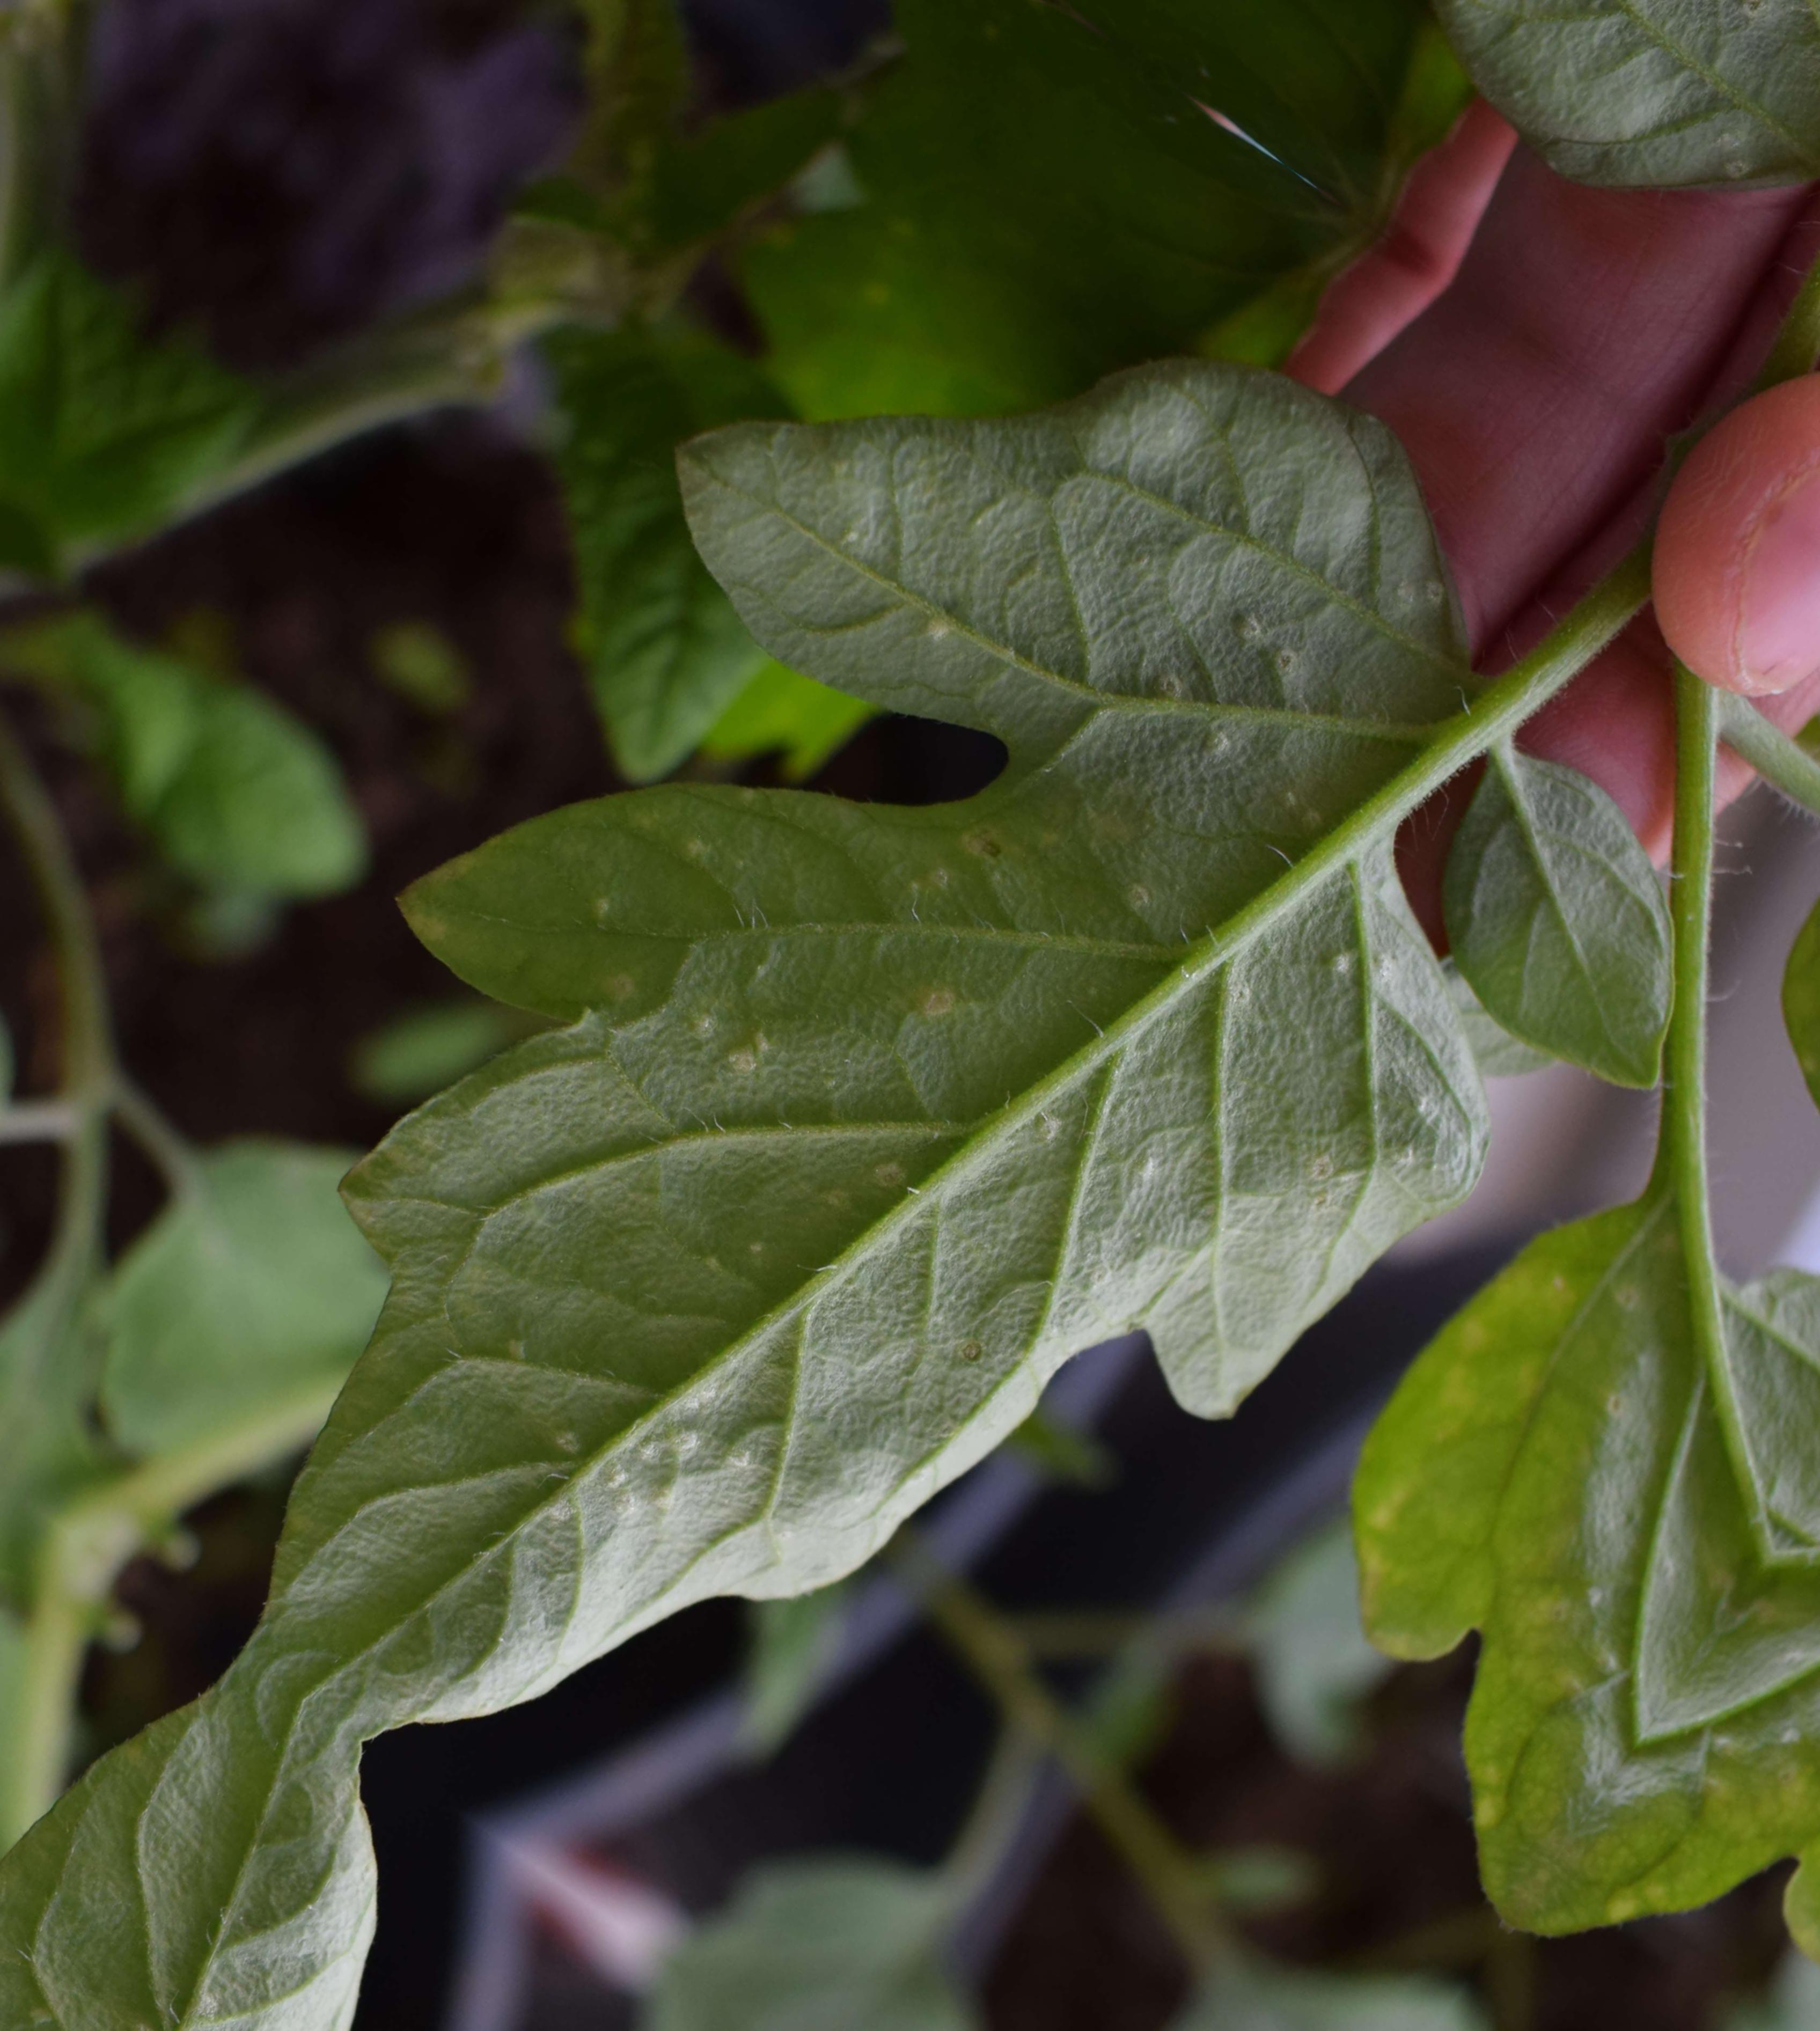Tomato mold leaf: (0, 142, 1762, 2031), (1114, 1086, 1820, 1998), (0, 812, 111, 1381), (1718, 694, 1820, 1297)
